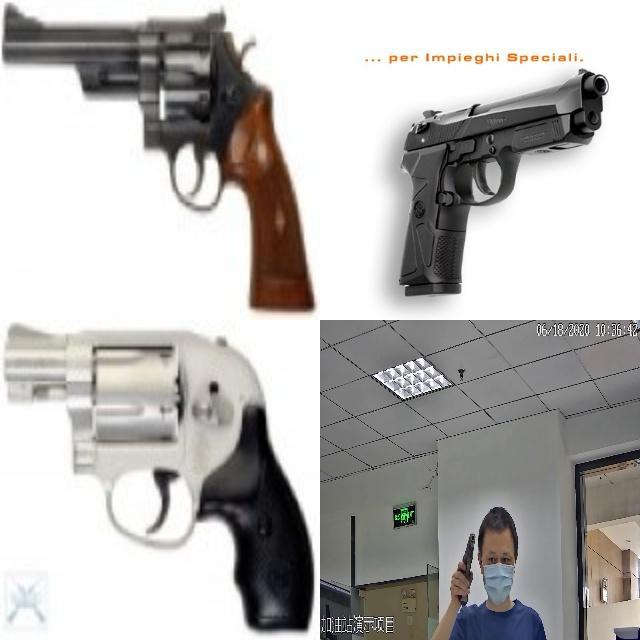gun-knife-thesis - v11 Yolov5 augmented: (1, 4, 311, 313), (7, 321, 313, 628), (396, 67, 609, 296), (449, 527, 476, 601)
